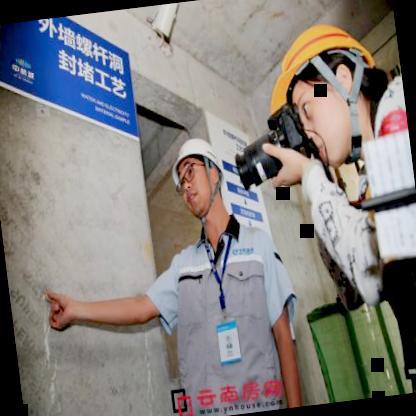helmet: (250, 2, 388, 178), (162, 126, 235, 226)
